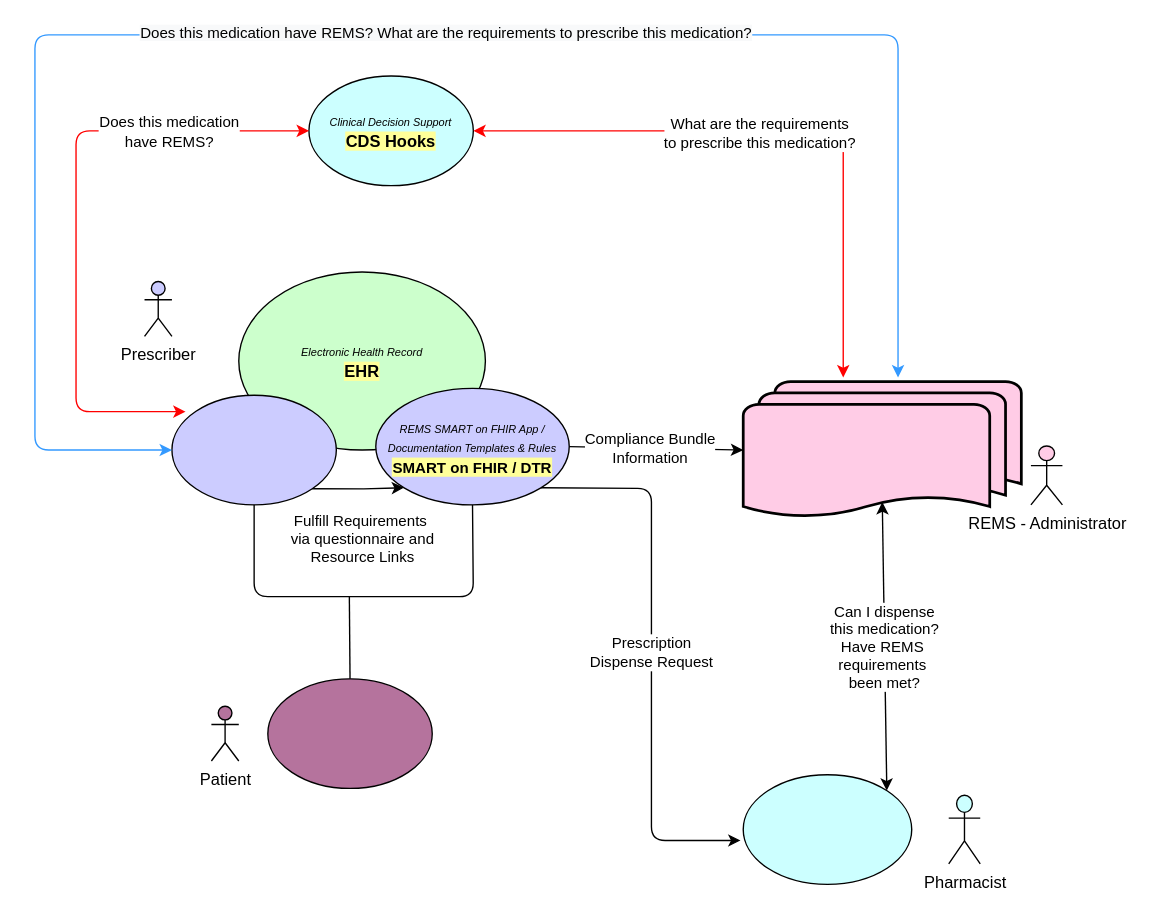
This 1149x917 diagram has some shape labels left out. The centre of each missing label's shape, as x and y in pixels:
Patient Portal PP: the point at 349,732
Pharmacy Information Management System PIMS: the point at 827,828
REMS Admin System n* Will have multiple admins for different drugs: the point at 881,449
Request Generator Request Generator: the point at 253,449
